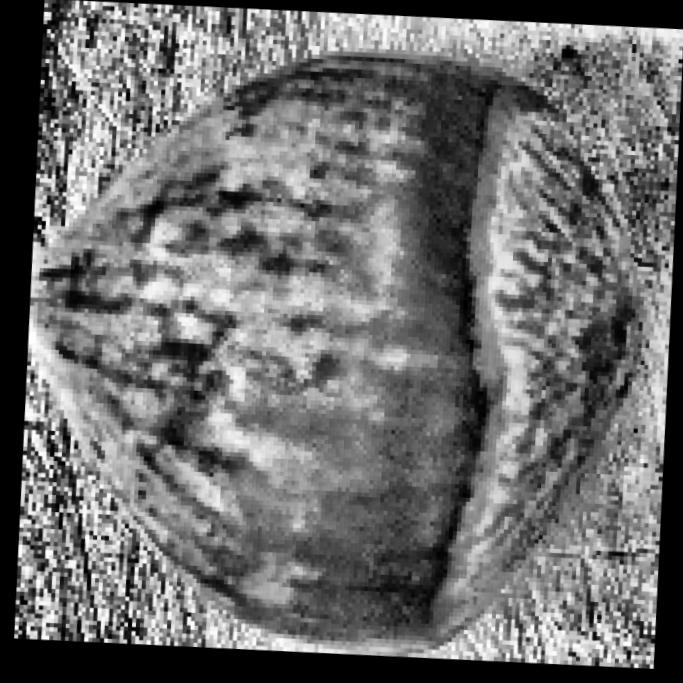qualityHazelnut: (0, 0, 683, 683)
